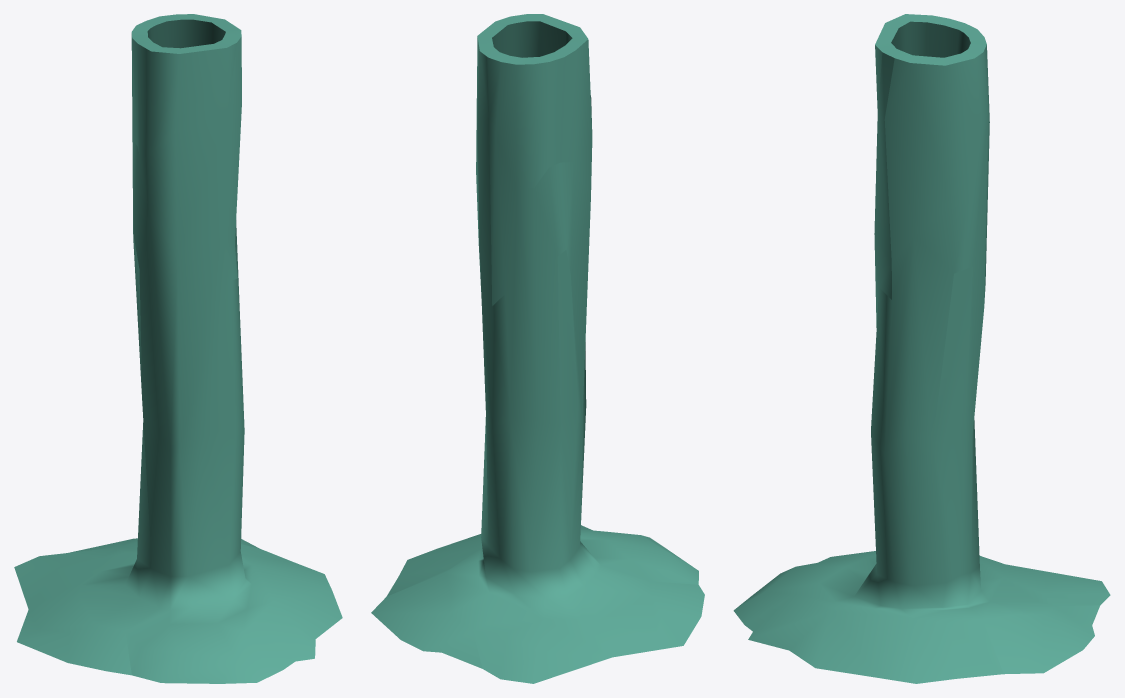
Rendered from coral_tube_B_ultralight.fbx.
The picture shows the model from 3 angles, left to right: view 1: azimuth 30°, elevation 25°; view 2: azimuth 150°, elevation 25°; view 3: azimuth 270°, elevation 25°; orthographic projection. The views are drawn at different scales.
Parts seen in each view (by area): view 1: coral_tube_B_ultralight; view 2: coral_tube_B_ultralight; view 3: coral_tube_B_ultralight.
Part boxes in pixels (box(x1,y1,x2,y2)): coral_tube_B_ultralight: box(14, 14, 342, 683); coral_tube_B_ultralight: box(371, 14, 704, 683); coral_tube_B_ultralight: box(733, 14, 1110, 683).
Bounding box in the file's own units: 34.99 × 65.42 × 38.07.
